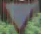Give way: (2, 0, 34, 33)
